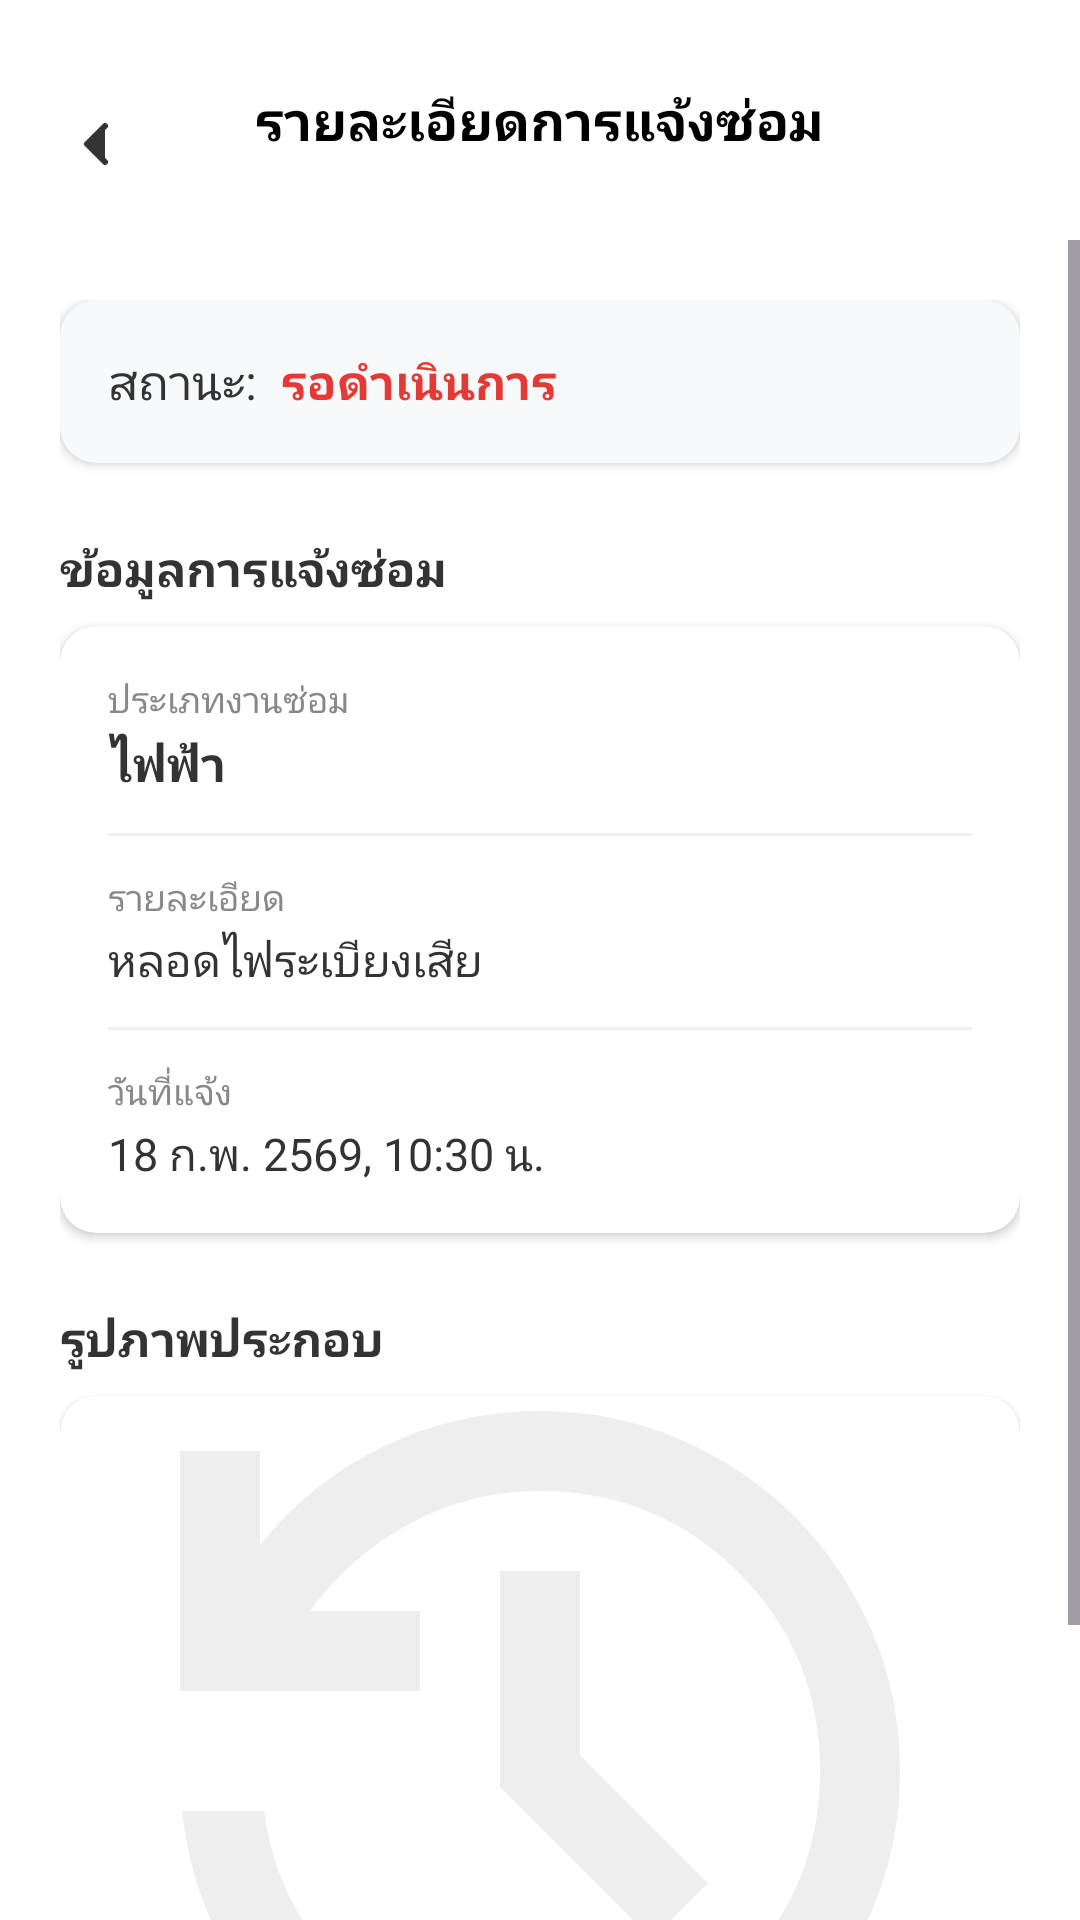

Point at icon controls on the screen. Image size 1080×1920, points as (x,y).
back gg: (96,144)
